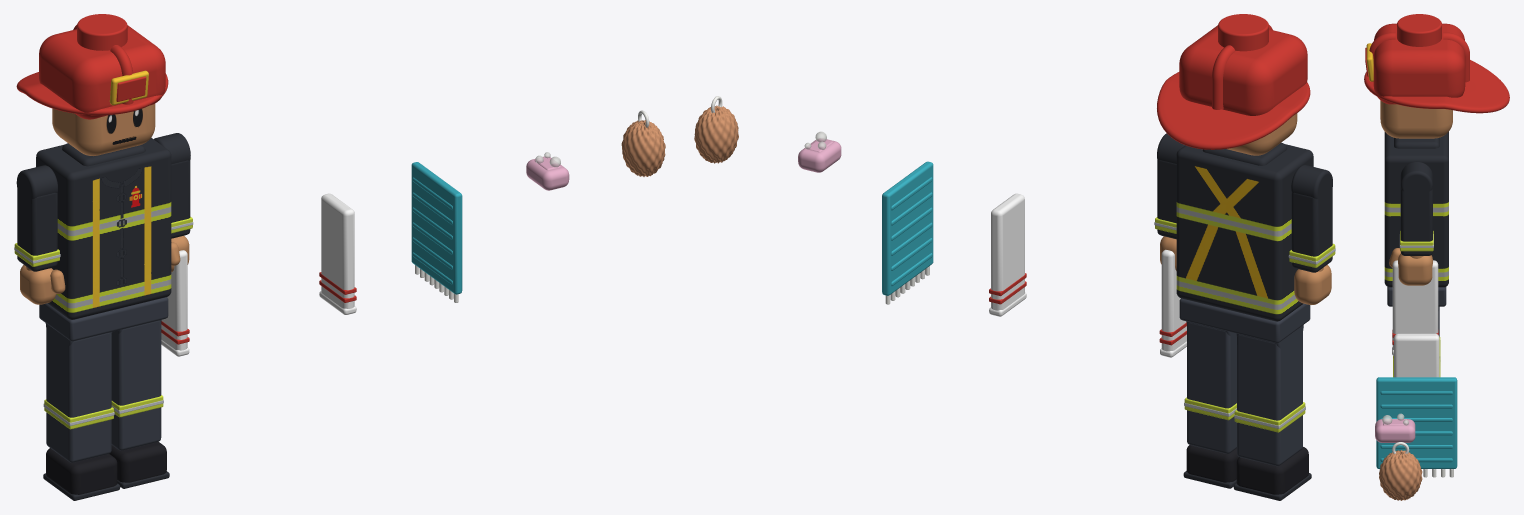
Rendered from goldmaster-figure.glb.
The picture shows the model from 3 angles, left to right: view 1: azimuth 30°, elevation 25°; view 2: azimuth 150°, elevation 25°; view 3: azimuth 270°, elevation 25°; orthographic projection. The views are drawn at different scales.
Parts seen in each view (by area): view 1: torso, hat, leg_r, leg_l, item_mat, arm_r, item_towel, head, hip, arm_l, item_loofah, item (+2 smaller); view 2: torso, hat, leg_r, leg_l, item_mat, arm_r, item_towel, hip, item_loofah, arm_l, item, item_soap (+2 smaller); view 3: hat, item_mat, torso, arm_l, item, head, item_towel, item_loofah, hand_l, item_soap, hip.
Part boxes in pixels (box(x1,y1,x2,y2)): torso: box(36, 137, 171, 319); hat: box(16, 14, 168, 119); leg_r: box(43, 323, 120, 500); leg_l: box(109, 320, 169, 488); item_mat: box(411, 162, 462, 302); arm_r: box(14, 165, 60, 271); item_towel: box(319, 193, 356, 314); head: box(52, 103, 155, 155); hip: box(39, 297, 168, 341); arm_l: box(154, 133, 193, 238); item_loofah: box(621, 110, 665, 176); item: box(161, 250, 189, 356); torso: box(1176, 142, 1313, 321); hat: box(1157, 14, 1310, 149); leg_r: box(1233, 325, 1311, 500); leg_l: box(1183, 321, 1239, 488); item_mat: box(882, 161, 933, 304); arm_r: box(1288, 165, 1335, 272); item_towel: box(989, 193, 1026, 316); hip: box(1179, 298, 1310, 343); item_loofah: box(694, 96, 738, 163); arm_l: box(1154, 133, 1184, 239); item: box(1159, 249, 1186, 357); item_soap: box(798, 131, 841, 172); hat: box(1364, 14, 1509, 113); item_mat: box(1376, 377, 1457, 477); torso: box(1384, 132, 1448, 287); arm_l: box(1399, 161, 1433, 255); item: box(1392, 260, 1438, 355); head: box(1380, 100, 1452, 138); item_towel: box(1394, 333, 1439, 377); item_loofah: box(1379, 442, 1422, 500); hand_l: box(1389, 248, 1432, 285); item_soap: box(1375, 413, 1415, 442); hip: box(1387, 287, 1446, 306).
Size of the model in its own units: 2.42 by 1.66 by 0.542.
18 materials, 3 textured.
